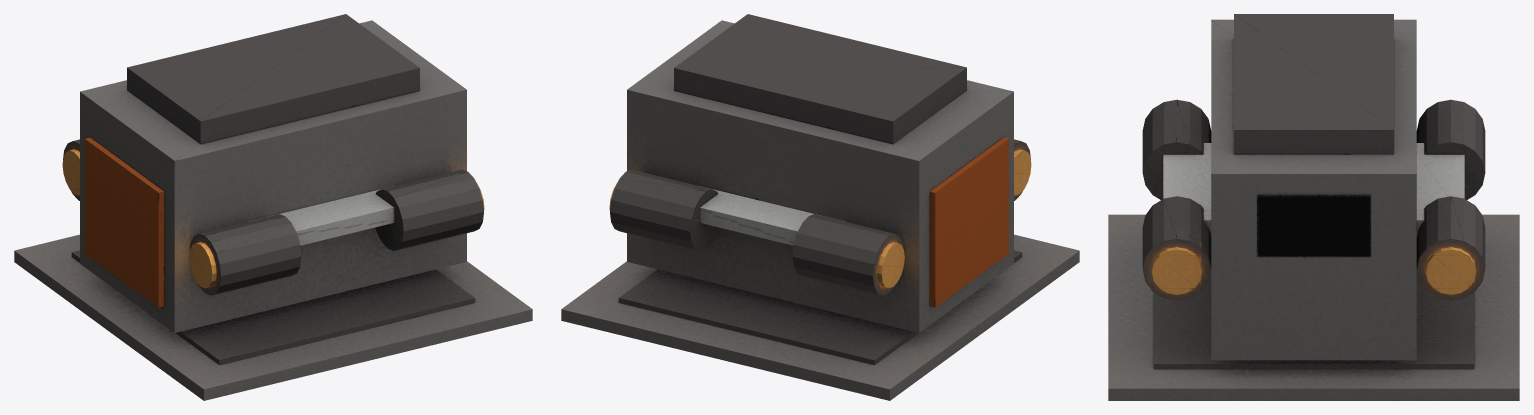
The model's file is cargo_dropship_script.glb.
The picture shows the model from 3 angles, left to right: view 1: azimuth 30°, elevation 25°; view 2: azimuth 150°, elevation 25°; view 3: azimuth 270°, elevation 25°; orthographic projection. The views are drawn at different scales.
Parts seen in each view (by area): view 1: Cube; view 2: Cube; view 3: Cube.
Boxes of the visible parts, x1,y1,x2,y2 form: Cube: [14, 14, 532, 400]; Cube: [561, 14, 1079, 400]; Cube: [1108, 14, 1519, 400].
Size of the model in its own units: 18 by 11.7 by 18.
Materials: 1 (1 with a texture image).
